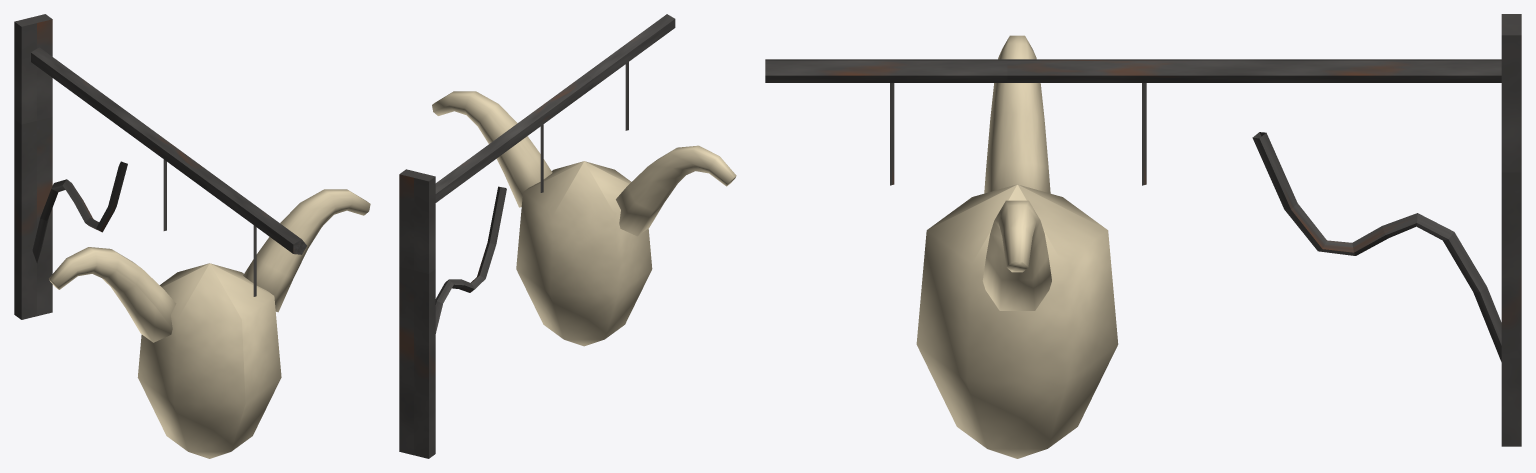
File: Sign_Tavern_Skull_1_LOD1.gltf
3 renders of one model, left to right at view 1: azimuth 30°, elevation 25°; view 2: azimuth 150°, elevation 25°; view 3: azimuth 270°, elevation 25°, orthographic. The views are drawn at different scales.
Visible parts, largest first — view 1: Sign_Tavern_Skull_1_LOD1; view 2: Sign_Tavern_Skull_1_LOD1; view 3: Sign_Tavern_Skull_1_LOD1.
Boxes of the visible parts, x1,y1,x2,y2 form: Sign_Tavern_Skull_1_LOD1: [14, 14, 370, 458]; Sign_Tavern_Skull_1_LOD1: [399, 14, 736, 458]; Sign_Tavern_Skull_1_LOD1: [765, 14, 1521, 458].
Bounding box in the file's own units: 1.02 × 0.95 × 1.5.
2 materials, 2 textured.
